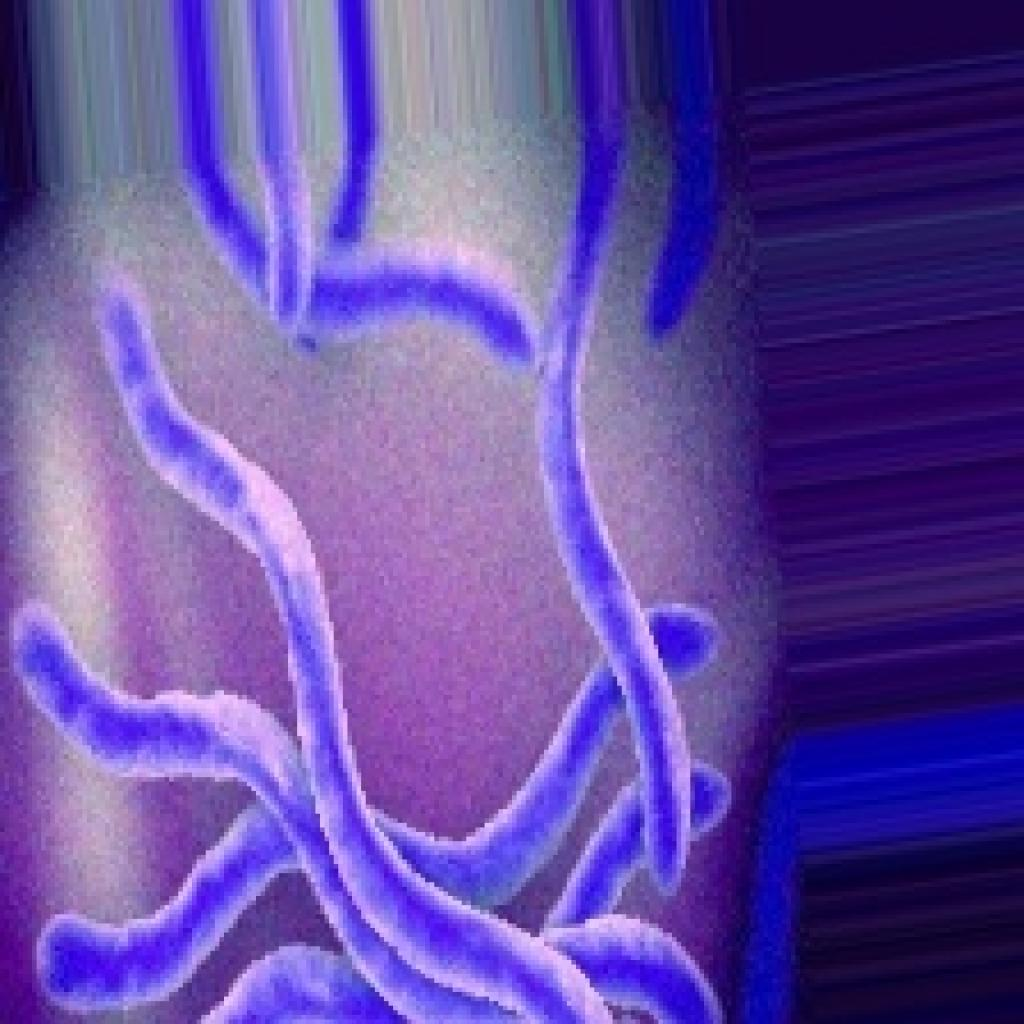Sprialbacteria: (0, 0, 768, 1019)
